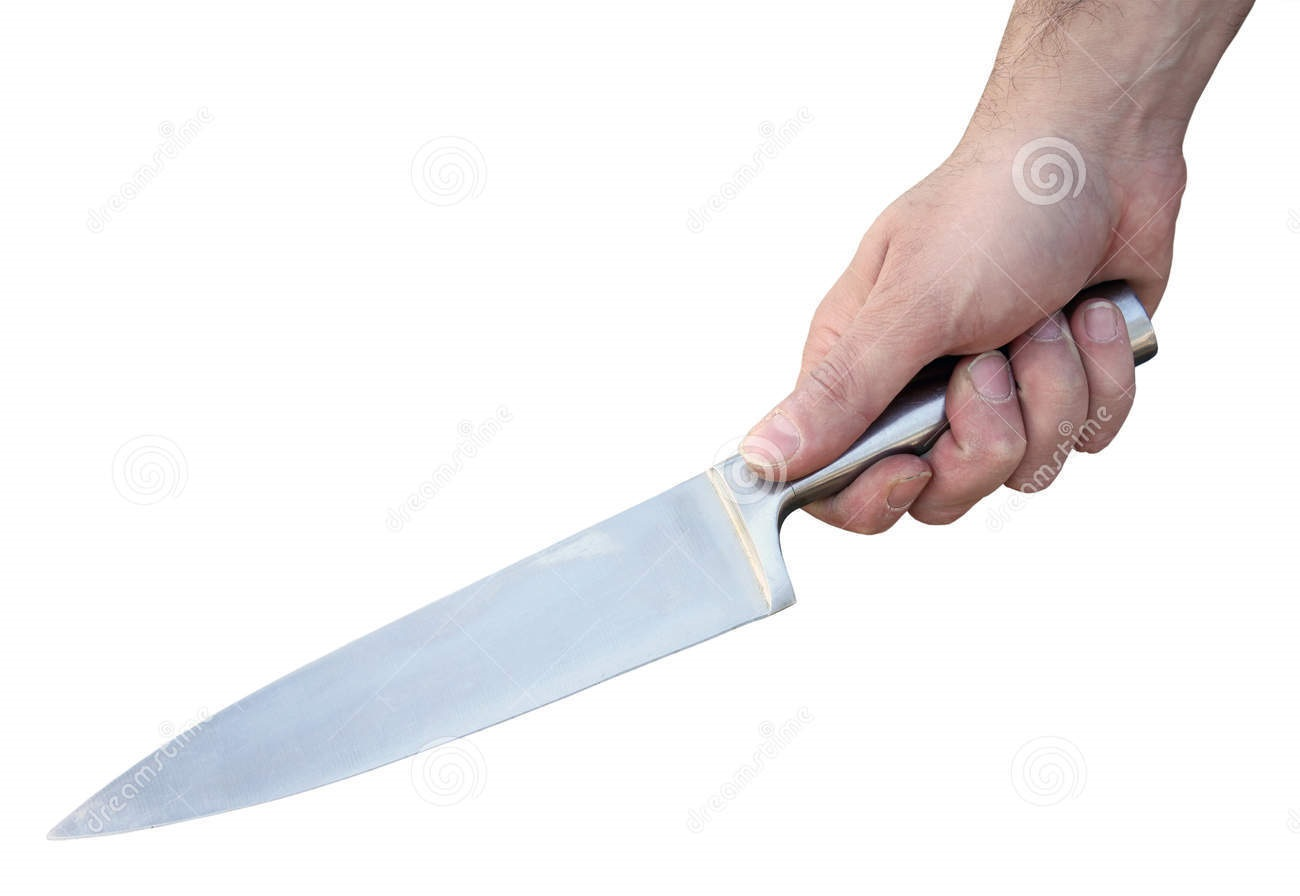knife: (34, 295, 1069, 854)
